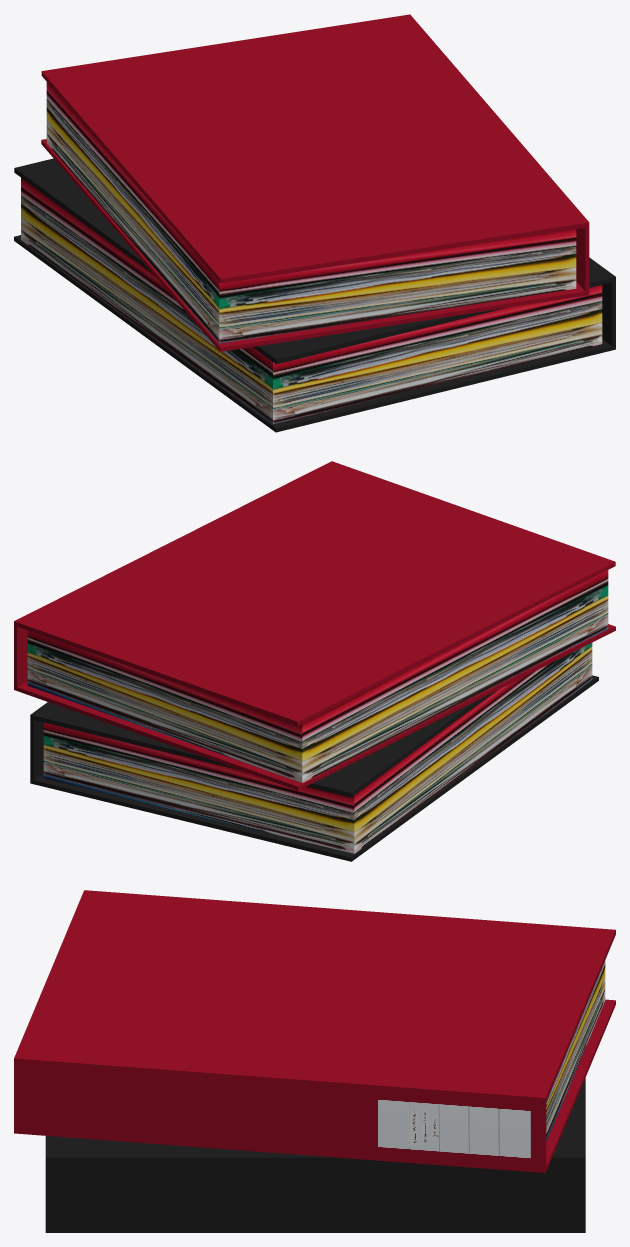
Rendered from Files.FBX.
3 renders of one model, top to bottom at view 1: azimuth 30°, elevation 25°; view 2: azimuth 150°, elevation 25°; view 3: azimuth 270°, elevation 25°, orthographic. The views are drawn at different scales.
Visible parts, largest first — view 1: Files 2, Files 1; view 2: Files 2, Files 1; view 3: Files 2, Files 1.
Boxes of the visible parts, bbox=[...] form: Files 2: bbox=[41, 14, 589, 351]; Files 1: bbox=[14, 158, 615, 432]; Files 2: bbox=[14, 461, 615, 790]; Files 1: bbox=[30, 643, 598, 861]; Files 2: bbox=[14, 890, 615, 1172]; Files 1: bbox=[45, 1078, 585, 1232].
Size of the model in its own units: 220 by 75.64 by 269.
Materials: 1 (1 with a texture image).
